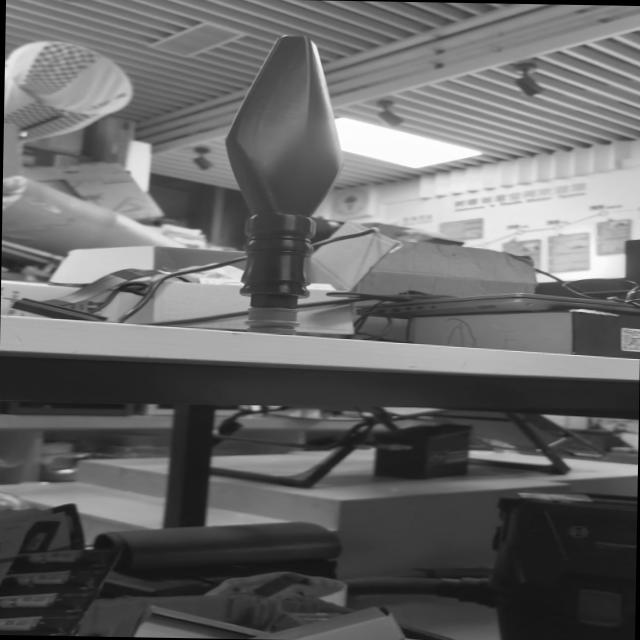base: (240, 302, 310, 339)
